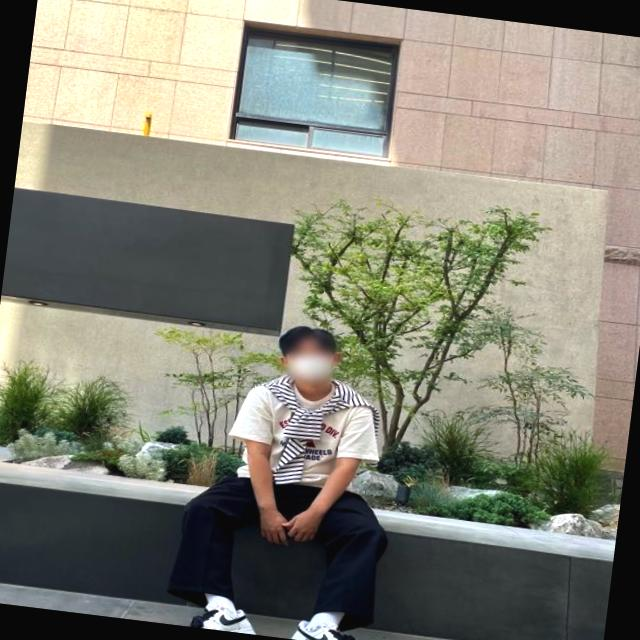shortsleeve: (226, 368, 387, 496)
slacks: (165, 472, 394, 630)
